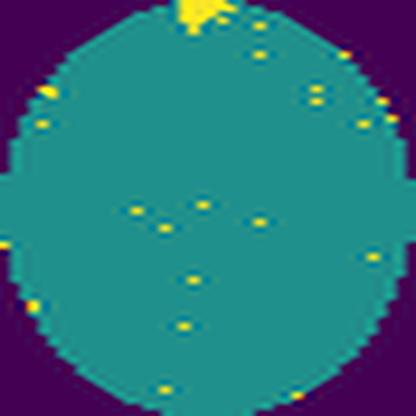Edge-Loc: (171, 0, 241, 34)
